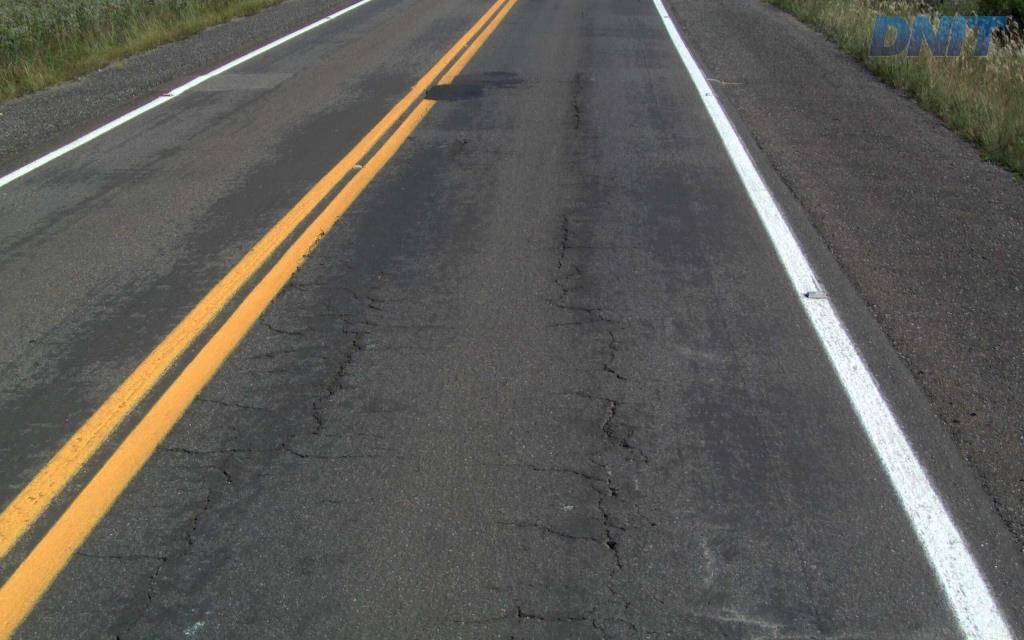crack: (602, 398, 635, 453)
